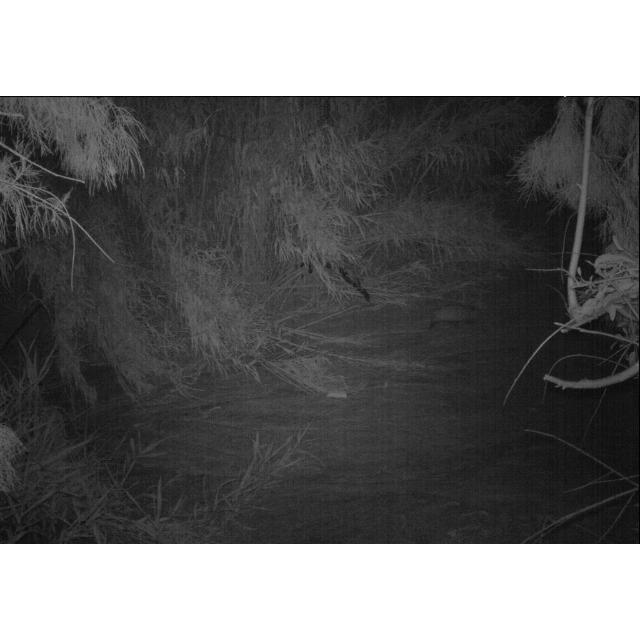animals: (428, 301, 487, 327)
